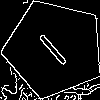I: (29, 24, 70, 68)
